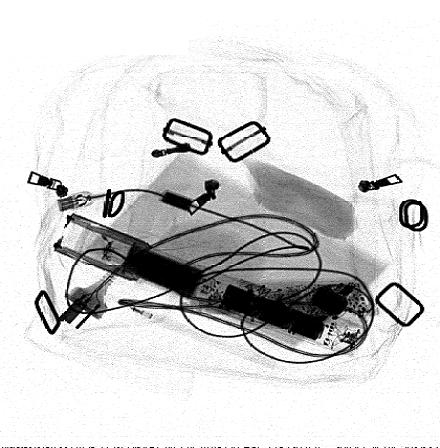Baton: (52, 211, 368, 359)
